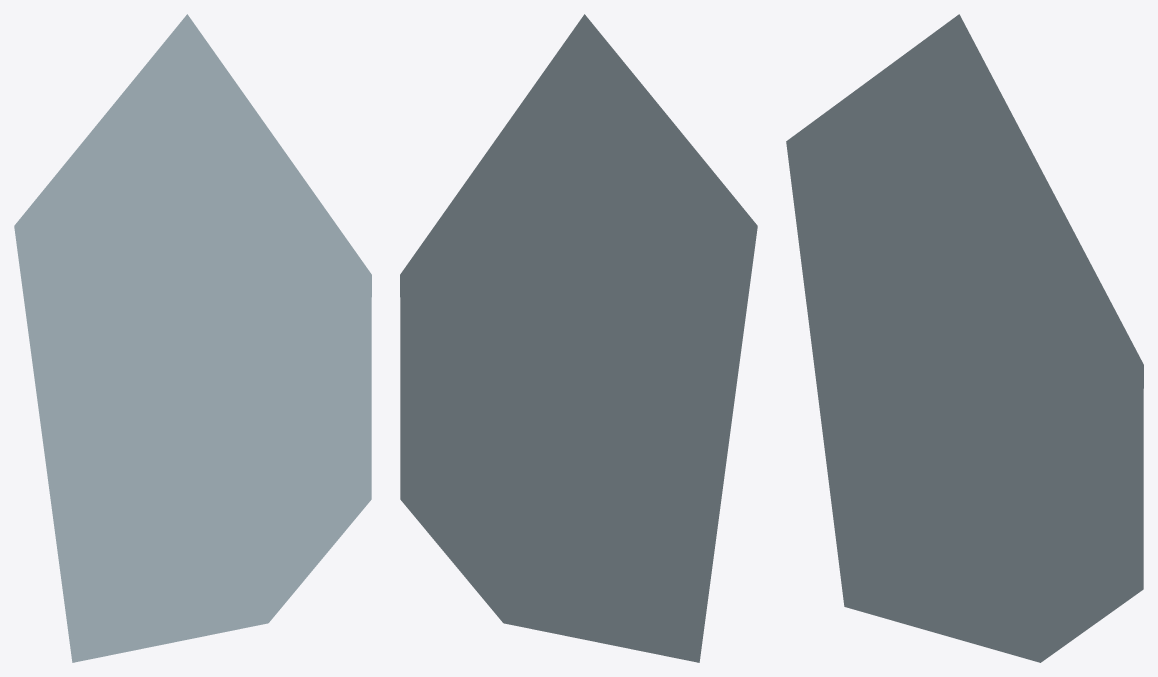
3 views of the same model, side by side, from view 1: azimuth 30°, elevation 25°; view 2: azimuth 150°, elevation 25°; view 3: azimuth 330°, elevation 25° (orthographic).
Parts seen in each view (by area): view 1: pCube25; view 2: pCube25; view 3: pCube25.
Boxes of the visible parts, x1,y1,x2,y2 form: pCube25: [14, 14, 371, 662]; pCube25: [400, 14, 757, 662]; pCube25: [786, 14, 1143, 662].
Size of the model in its own units: 33.23 by 55.85 by 0.
